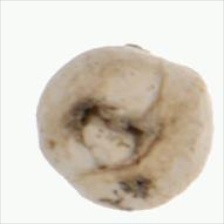L3: (69, 103, 150, 172)
L4: (36, 45, 214, 210)
